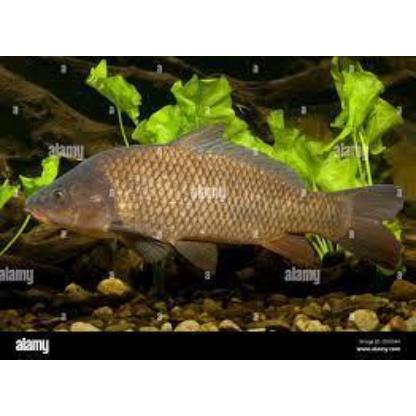ikan-mas: (20, 134, 390, 264)
